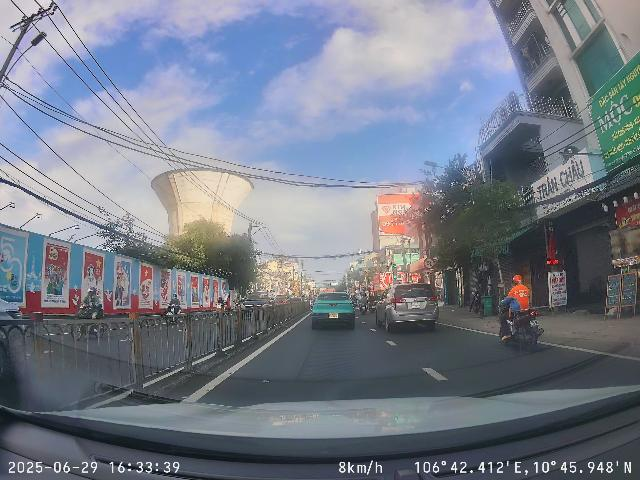124a-cam-quay-dau-xe: (424, 257, 435, 269)
